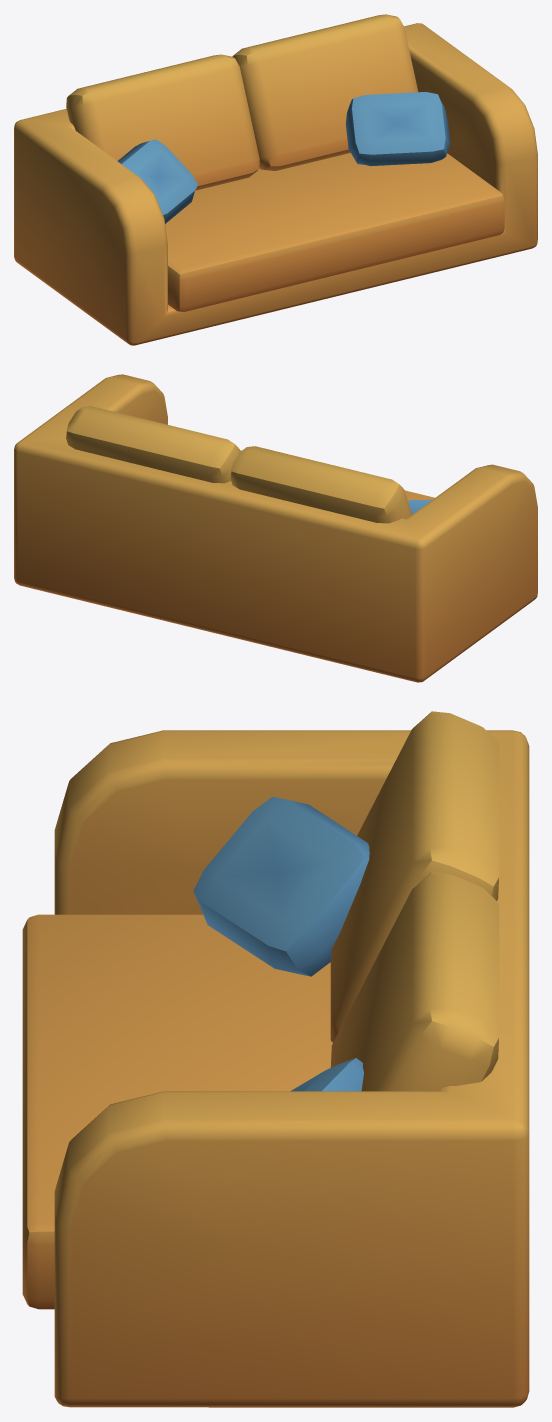
The model's file is couch_pillows.glb.
The picture shows the model from 3 angles, top to bottom: view 1: azimuth 30°, elevation 25°; view 2: azimuth 150°, elevation 25°; view 3: azimuth 270°, elevation 25°; orthographic projection. The views are drawn at different scales.
Parts seen in each view (by area): view 1: couch_pillows; view 2: couch_pillows; view 3: couch_pillows.
Boxes of the visible parts, left/top/right/bottom form: couch_pillows: left=14, top=14, right=537, bottom=345; couch_pillows: left=14, top=374, right=537, bottom=682; couch_pillows: left=22, top=711, right=529, bottom=1407.
Size of the model in its own units: 3 by 1.22 by 1.6.
